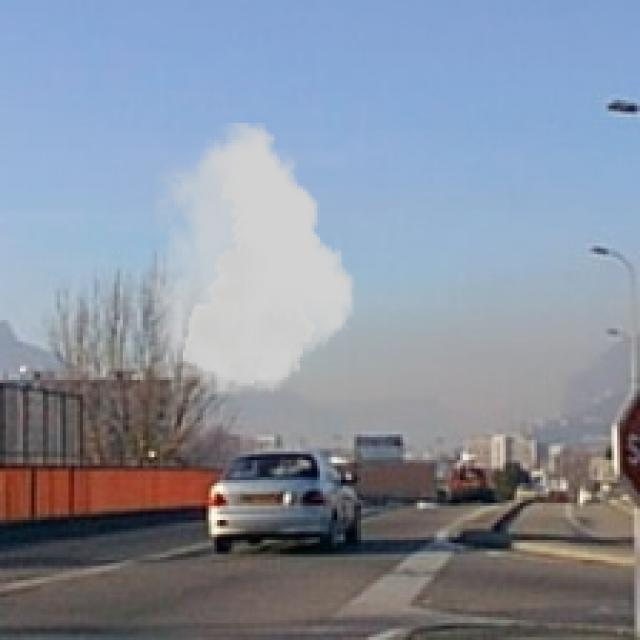smoke: (152, 123, 354, 397)
